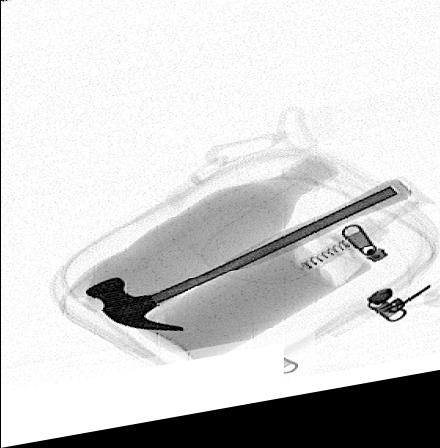Hammer: (83, 192, 413, 338)
